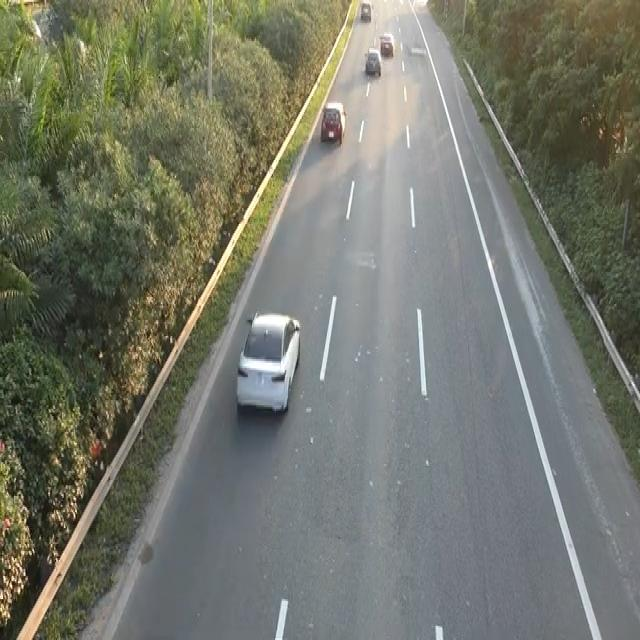bus: (234, 306, 302, 416), (319, 100, 346, 144), (359, 0, 372, 21)
